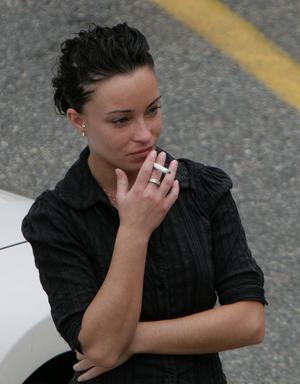person: (19, 20, 267, 384)
